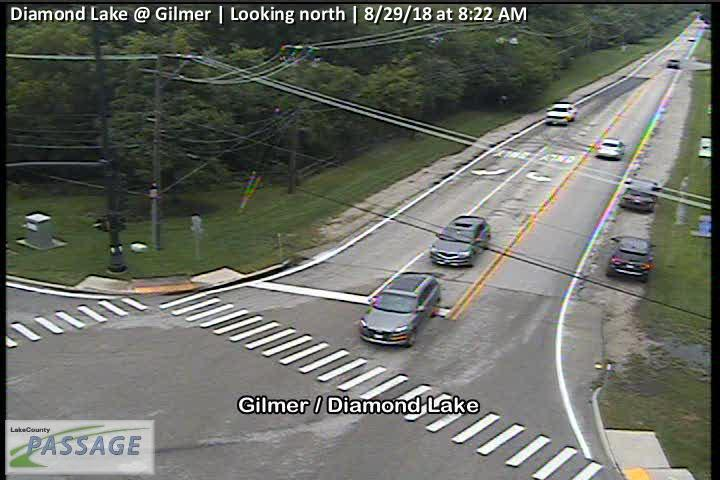SUV: (361, 271, 440, 346), (432, 215, 491, 268), (607, 236, 656, 283), (621, 179, 660, 213)
Sedan: (545, 103, 577, 124), (598, 138, 626, 159), (666, 58, 681, 68)
